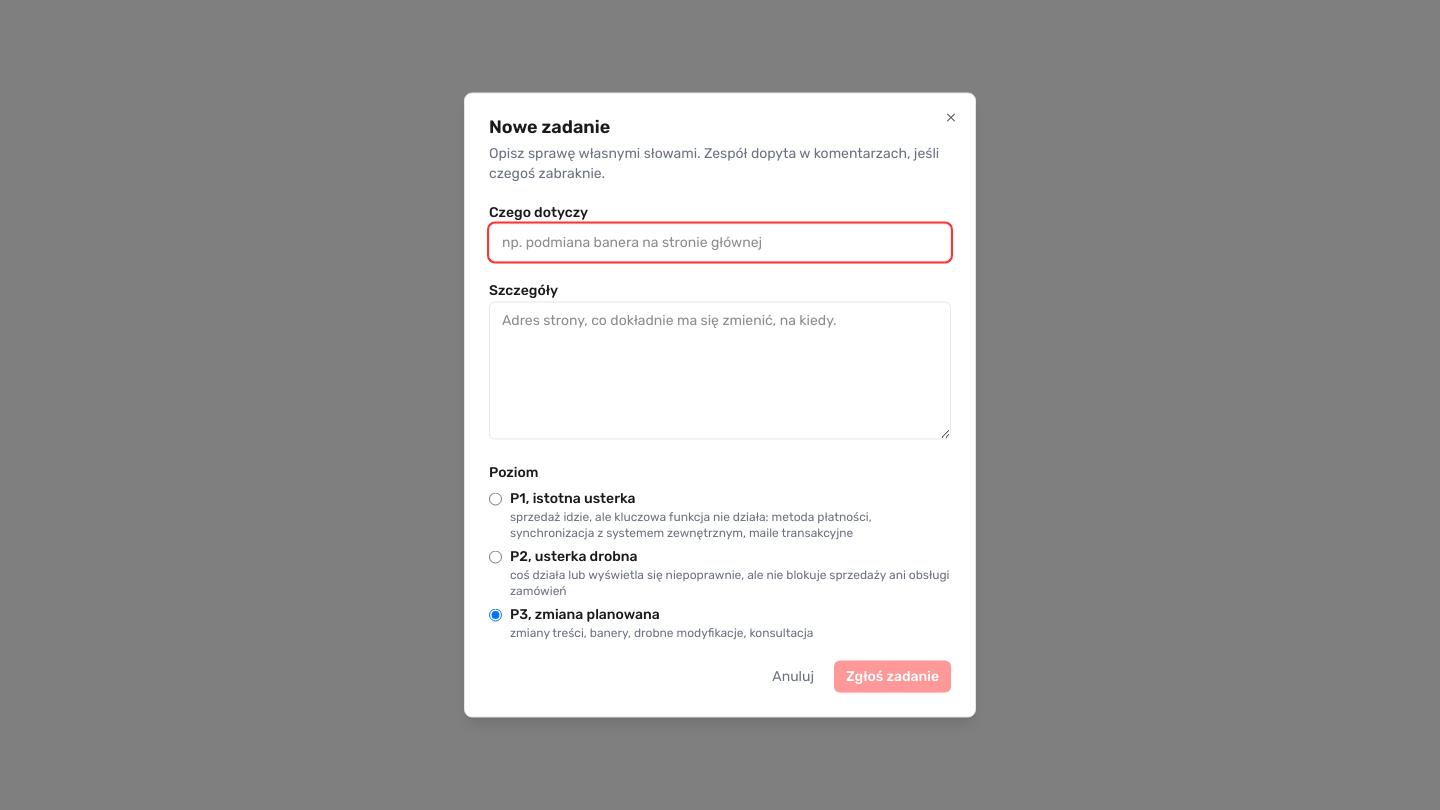
it: wysyłka zgłoszenia › zerwane połączenie też zostawia treść i mówi wprost
The width and height of the screenshot is (1440, 810).
Type "Sprawa klienta" into the field labelled "Czego dotyczy" at (720, 242), box [489,224,951,262]
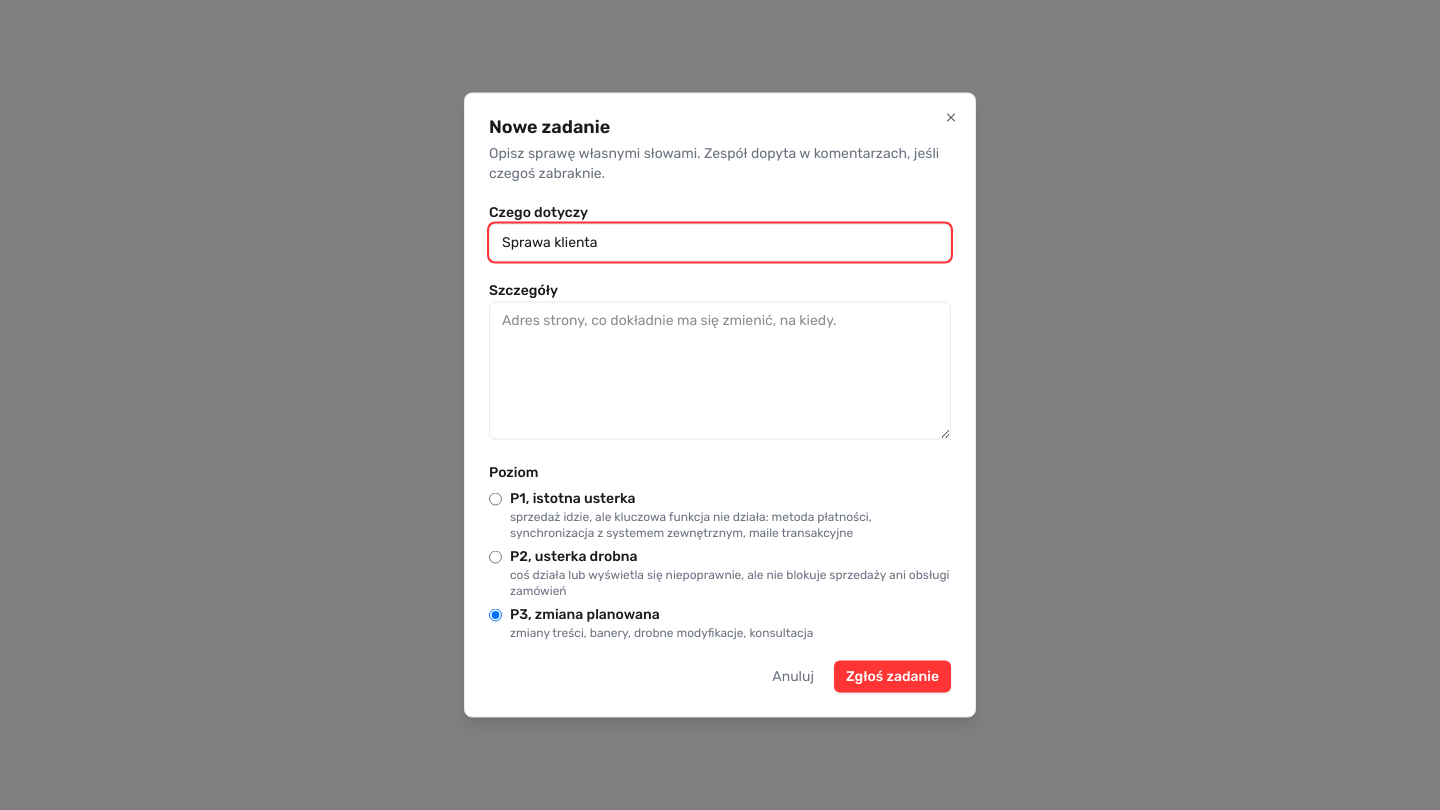
Click the button "Zgłoś zadanie" at (892, 676), box [834,660,951,692]
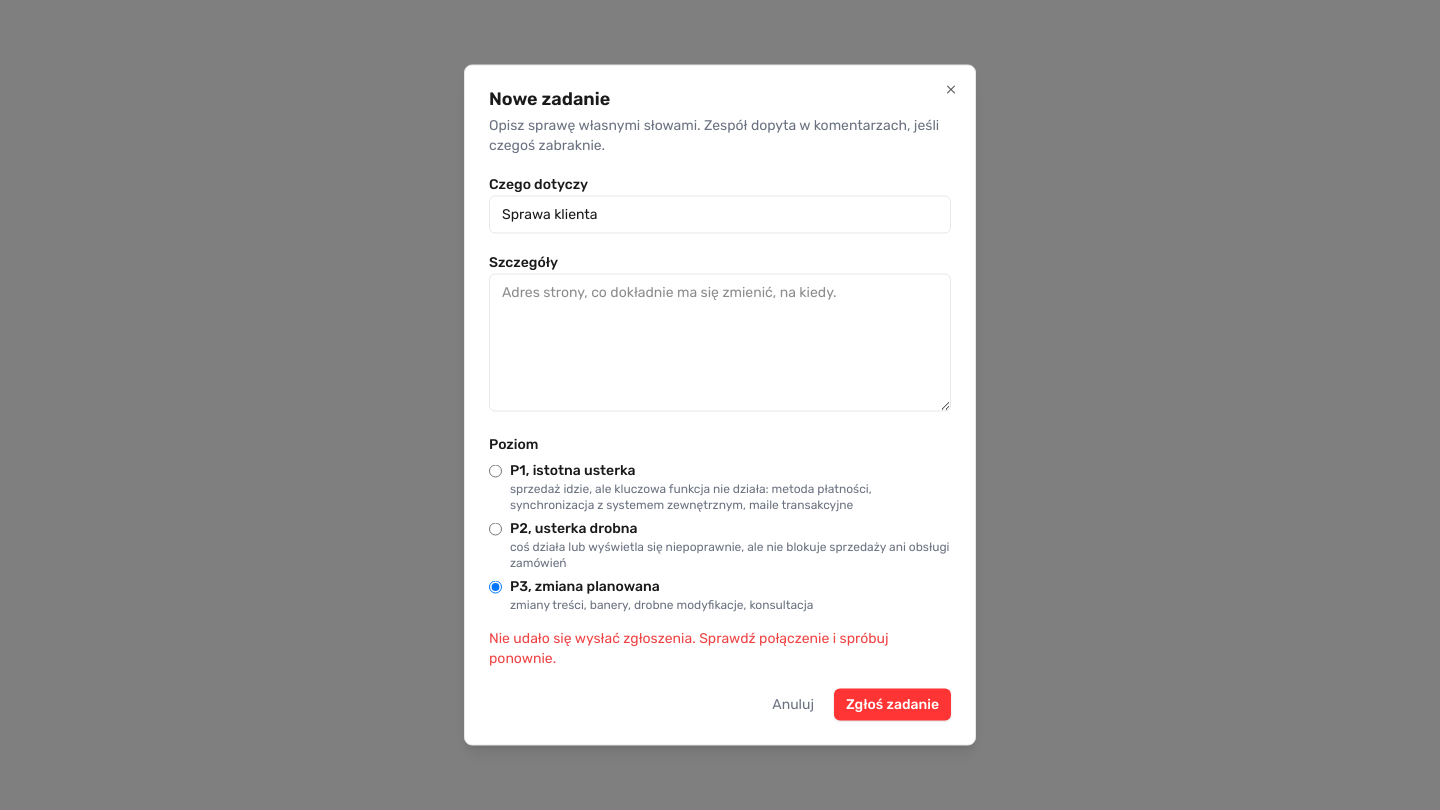
Result: the message "Nie udało się wysłać zgłoszenia. Sprawdź połączenie i spróbuj ponownie." is shown at [489,628,951,668]
